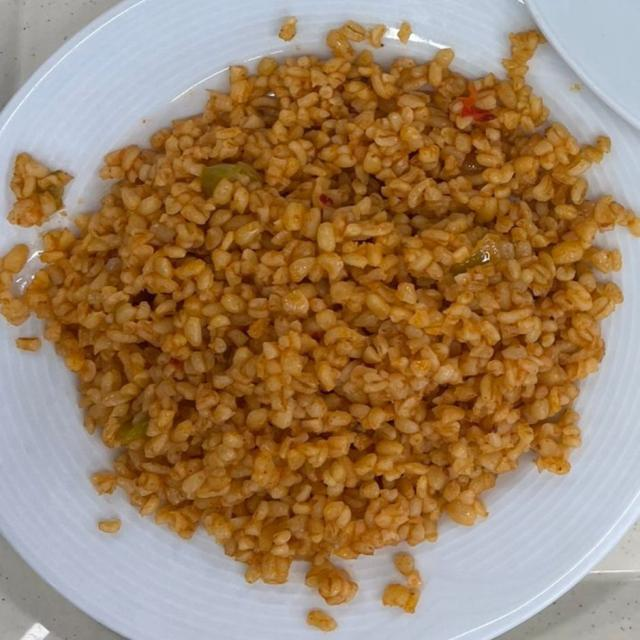ana_yemek: (1, 6, 638, 634)
